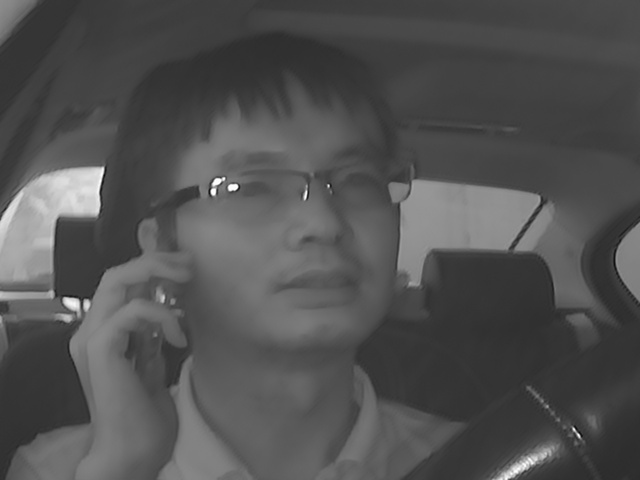hand: (61, 246, 211, 472)
